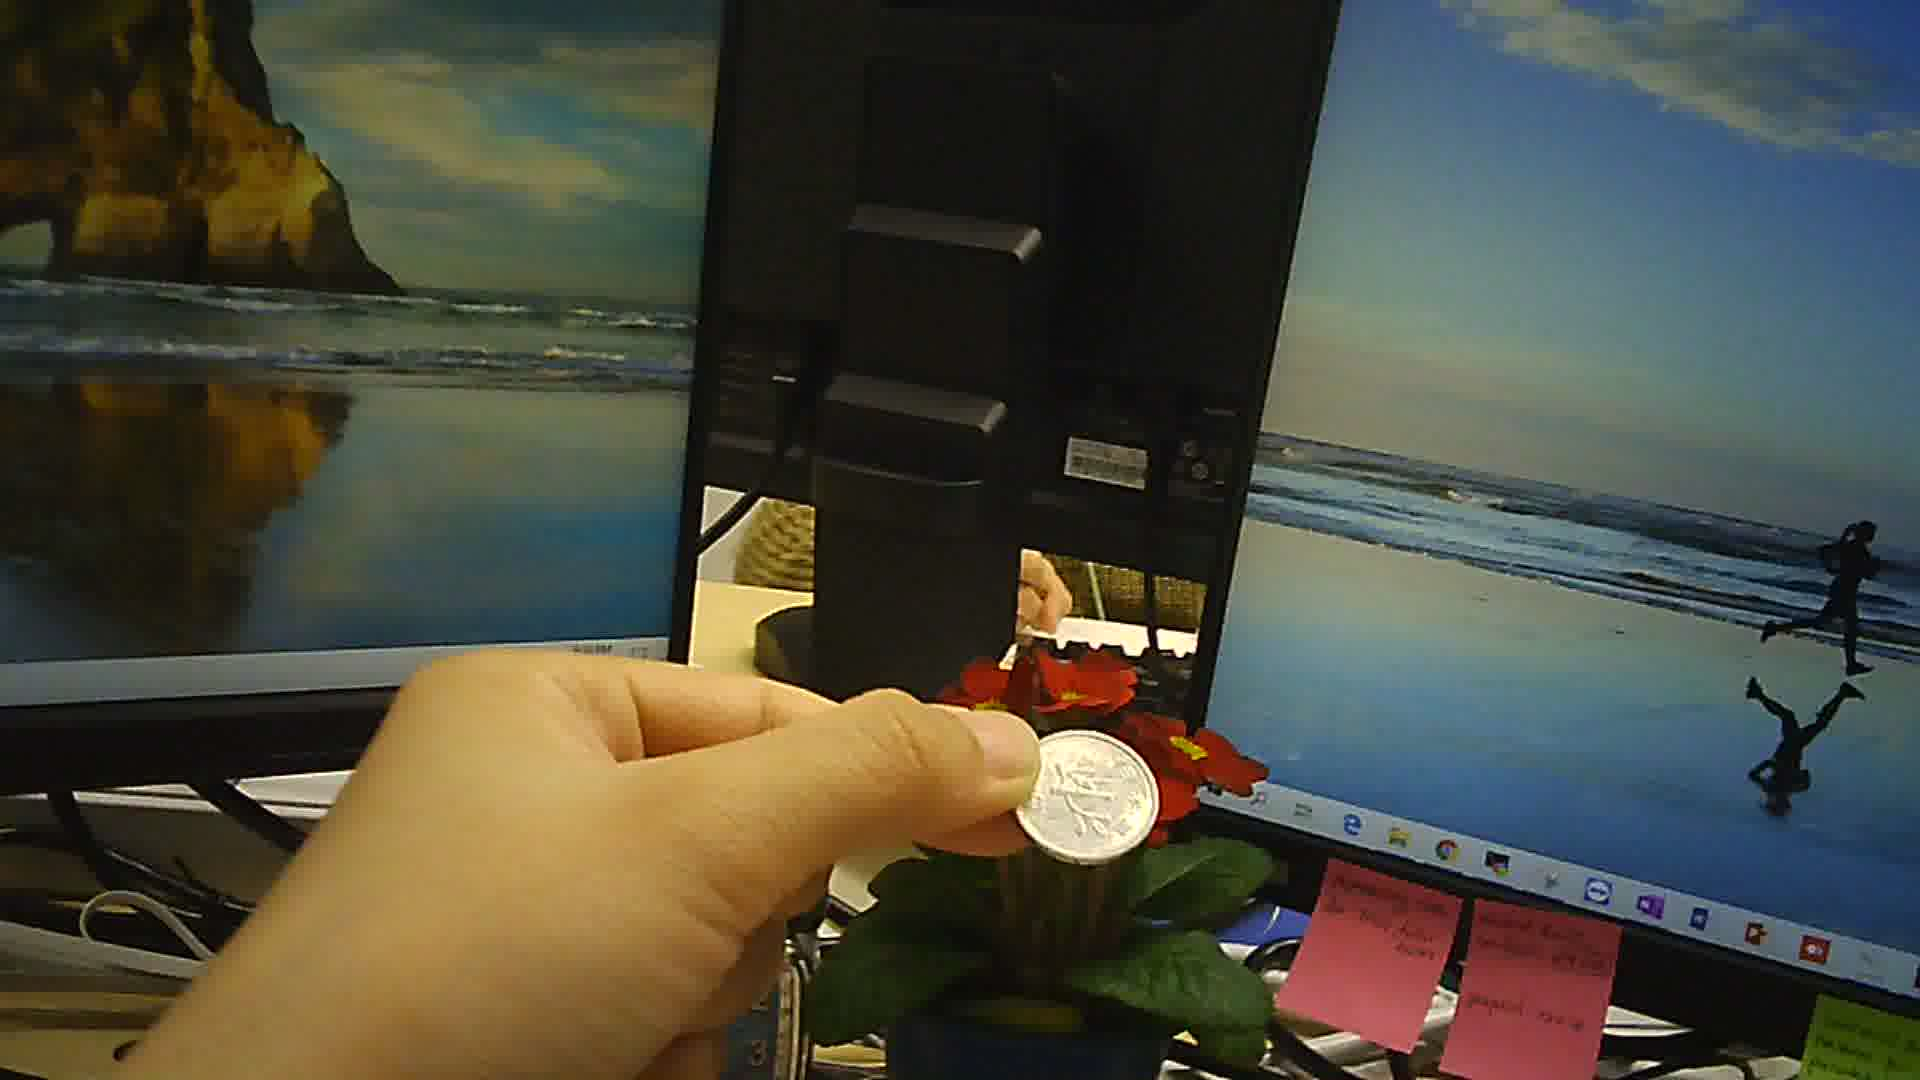1 Yen: (1018, 713, 1164, 858)
